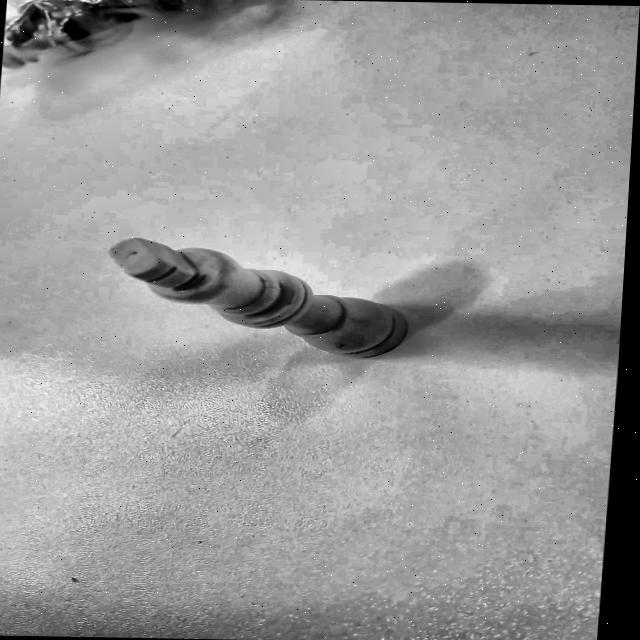white-king: (108, 238, 420, 359)
